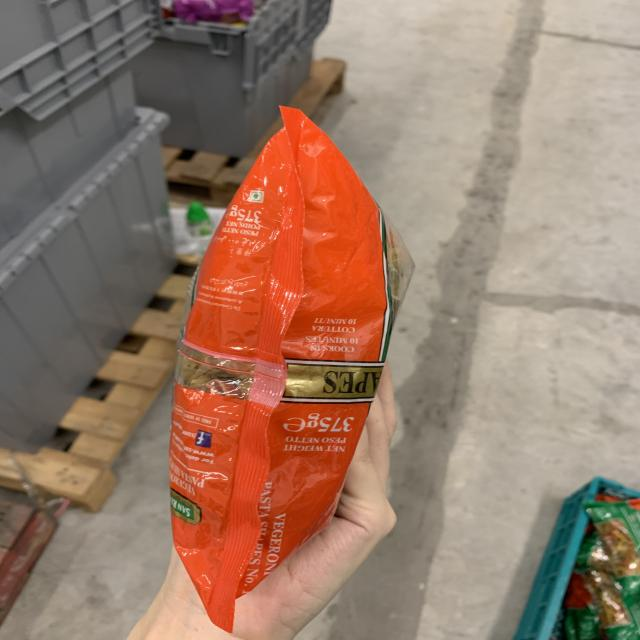object_name: (199, 128, 375, 594)
